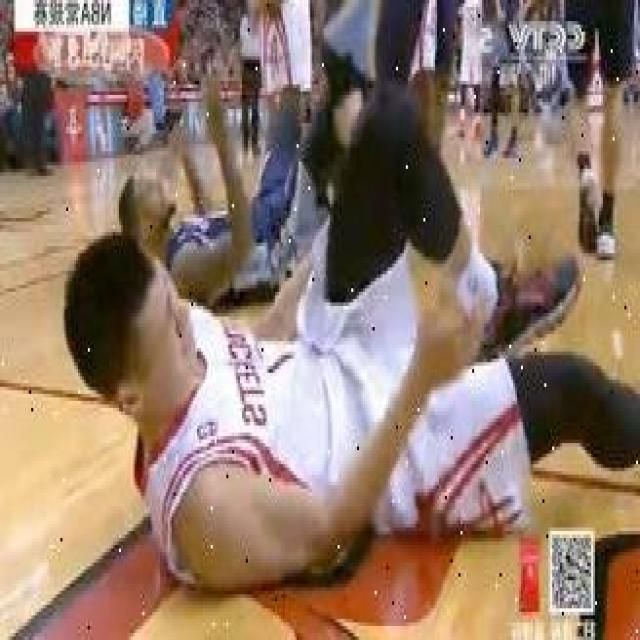fall: (92, 112, 578, 594)
